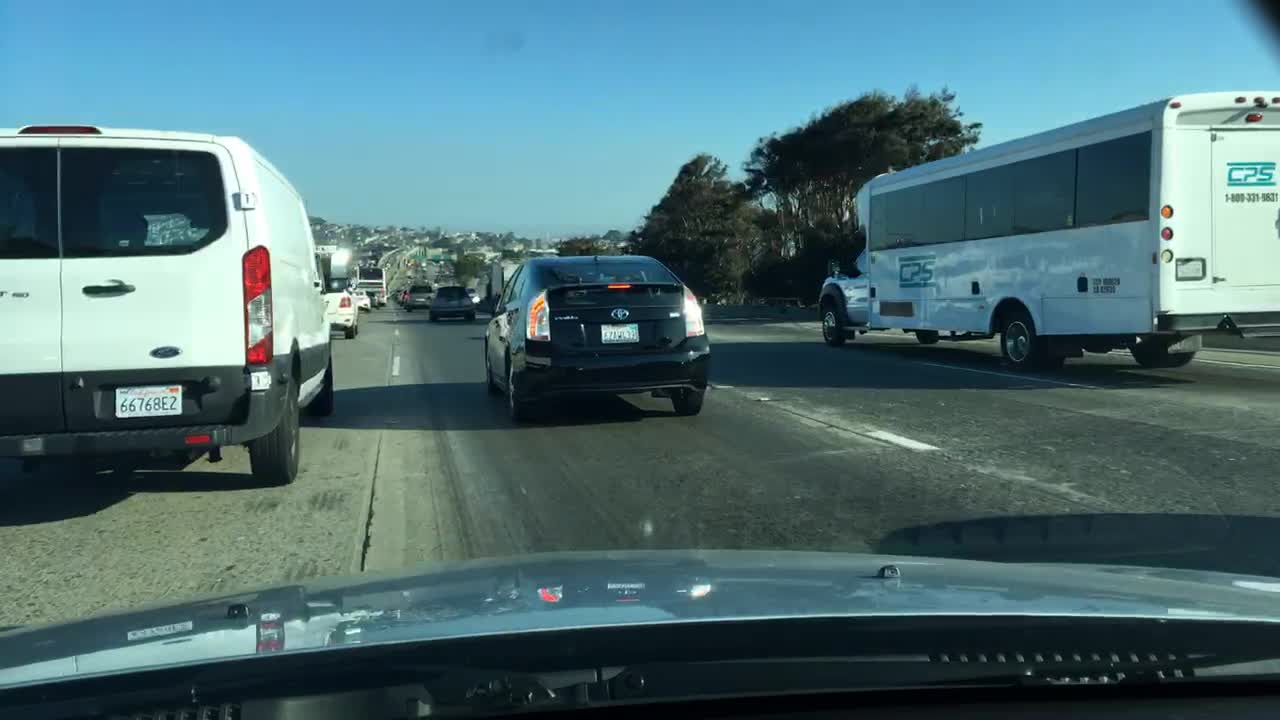car: (1, 120, 334, 486), (482, 252, 711, 415), (320, 274, 361, 338), (429, 286, 475, 321), (406, 283, 434, 313), (761, 298, 802, 309), (353, 290, 371, 313), (466, 286, 480, 308), (434, 272, 456, 285), (442, 262, 456, 277), (391, 288, 404, 304), (396, 288, 409, 304), (385, 283, 393, 301), (416, 270, 429, 280), (434, 262, 445, 272), (415, 257, 426, 267), (416, 267, 429, 274), (403, 259, 413, 268), (404, 272, 416, 277)
truck: (819, 88, 1277, 375), (484, 263, 524, 316), (354, 267, 386, 306)
